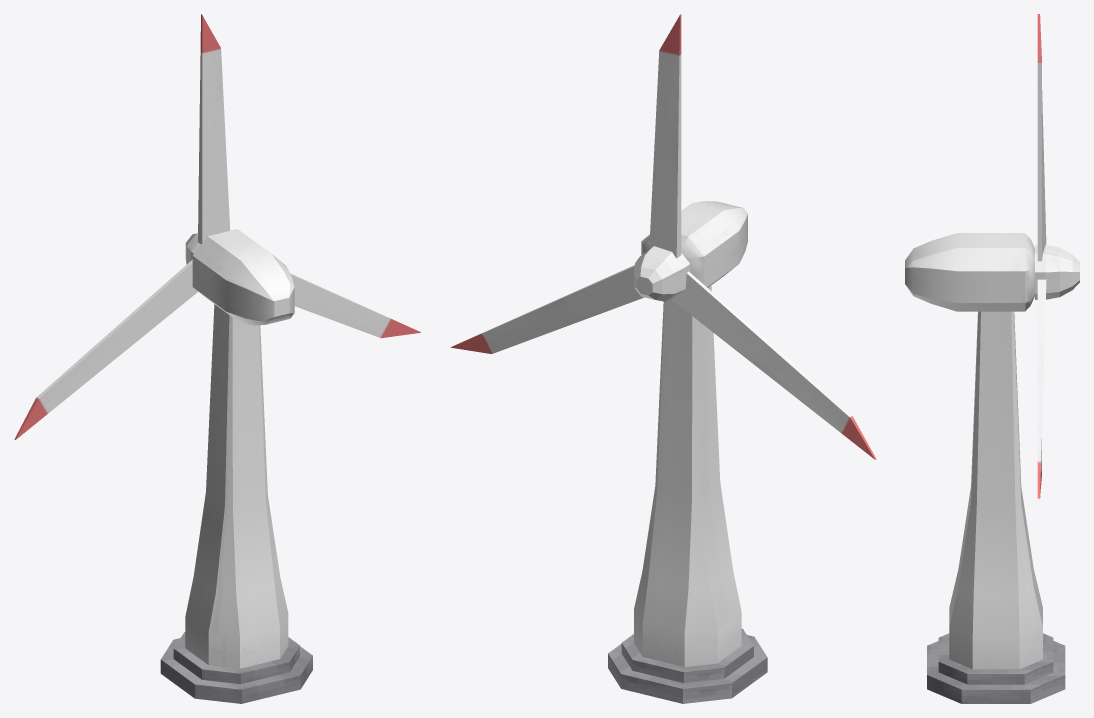
The model's file is Turbine.fbx.
3 views of the same model, side by side, from view 1: azimuth 30°, elevation 25°; view 2: azimuth 150°, elevation 25°; view 3: azimuth 270°, elevation 25° (orthographic). The views are drawn at different scales.
Visible parts, largest first — view 1: TurbineBody, TurbineHead, PropellerBlade1, PropellerBlade3, TurbineBaseLower, PropellerBlade2, TurbineBaseUpper; view 2: TurbineBody, PropellerBlade3, PropellerBlade1, PropellerBlade2, TurbineHead, TurbineBaseLower, TurbineBaseUpper, PropellerHead; view 3: TurbineBody, TurbineHead, TurbineBaseLower, TurbineBaseUpper, PropellerHead, PropellerBlade1, PropellerBlade2.
Part boxes in pixels (left/top/right/bottom): TurbineBody: left=185, top=304, right=288, bottom=668; TurbineHead: left=192, top=229, right=294, bottom=325; PropellerBlade1: left=198, top=14, right=230, bottom=244; PropellerBlade3: left=14, top=259, right=197, bottom=439; TurbineBaseLower: left=160, top=638, right=312, bottom=703; PropellerBlade2: left=290, top=273, right=420, bottom=338; TurbineBaseUpper: left=173, top=632, right=299, bottom=684; TurbineBody: left=634, top=286, right=741, bottom=666; PropellerBlade3: left=671, top=271, right=876, bottom=459; PropellerBlade1: left=649, top=14, right=681, bottom=258; PropellerBlade2: left=451, top=265, right=644, bottom=353; TurbineHead: left=641, top=201, right=747, bottom=287; TurbineBaseLower: left=608, top=635, right=767, bottom=703; TurbineBaseUpper: left=621, top=628, right=753, bottom=683; PropellerHead: left=634, top=246, right=690, bottom=301; TurbineBody: left=949, top=311, right=1042, bottom=669; TurbineHead: left=905, top=233, right=1034, bottom=311; TurbineBaseLower: left=927, top=641, right=1065, bottom=703; TurbineBaseUpper: left=938, top=633, right=1053, bottom=684; PropellerHead: left=1035, top=245, right=1079, bottom=299; PropellerBlade1: left=1037, top=14, right=1046, bottom=261; PropellerBlade2: left=1037, top=279, right=1046, bottom=498.
Size of the model in its own units: 4.66 by 7.08 by 1.72.
3 materials, 3 textured.
